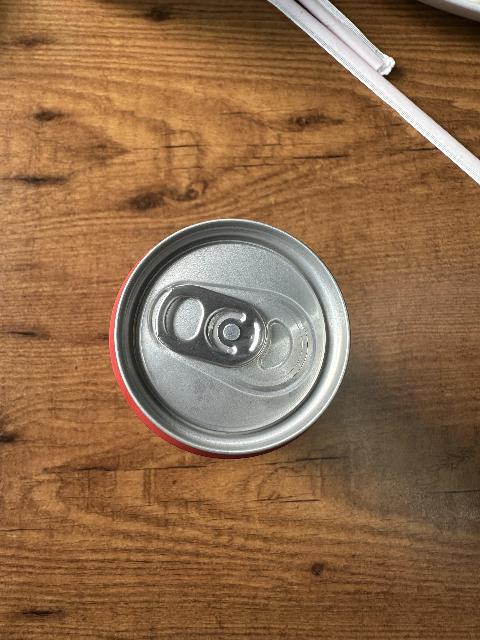Kagit: (365, 81, 480, 194), (265, 0, 413, 79)
Metal: (100, 208, 359, 463)
